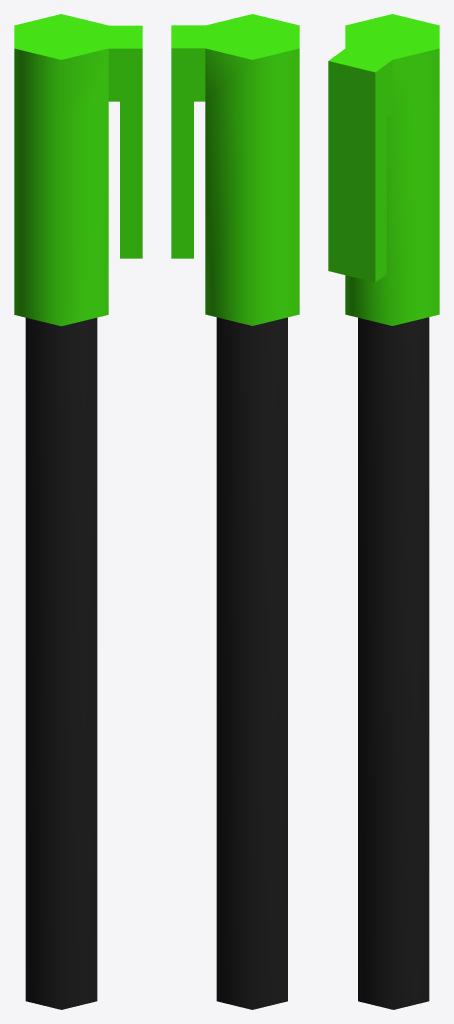
The model's file is boli_verd.FBX.
3 views of the same model, side by side, from view 1: azimuth 30°, elevation 25°; view 2: azimuth 210°, elevation 25°; view 3: azimuth 270°, elevation 25° (orthographic).
Visible parts, largest first — view 1: Cylinder002; view 2: Cylinder002; view 3: Cylinder002.
Boxes of the visible parts, x1,y1,x2,y2 form: Cylinder002: (14, 14, 142, 1009); Cylinder002: (171, 14, 299, 1009); Cylinder002: (328, 14, 439, 1009).
Size of the model in its own units: 0.5008 by 3.82 by 0.4028.
